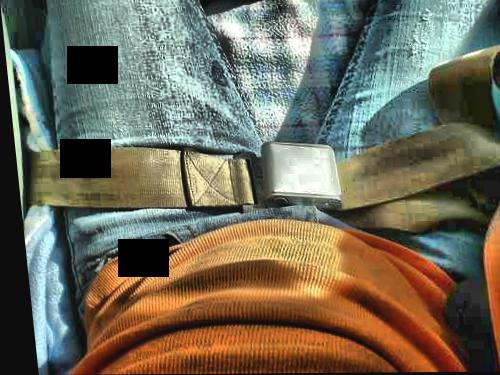seatbelt: (42, 128, 482, 223)
